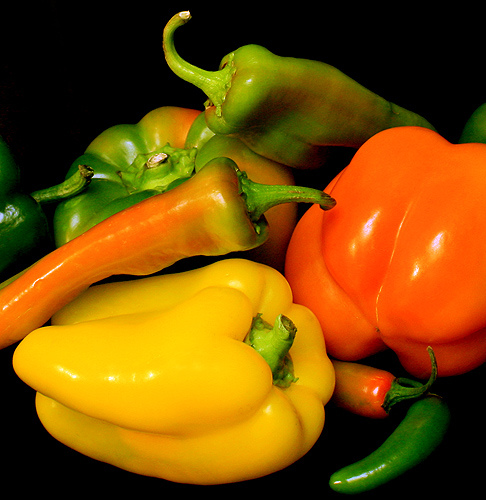capsicum: (6, 250, 340, 481), (279, 122, 484, 381), (48, 101, 303, 285)
